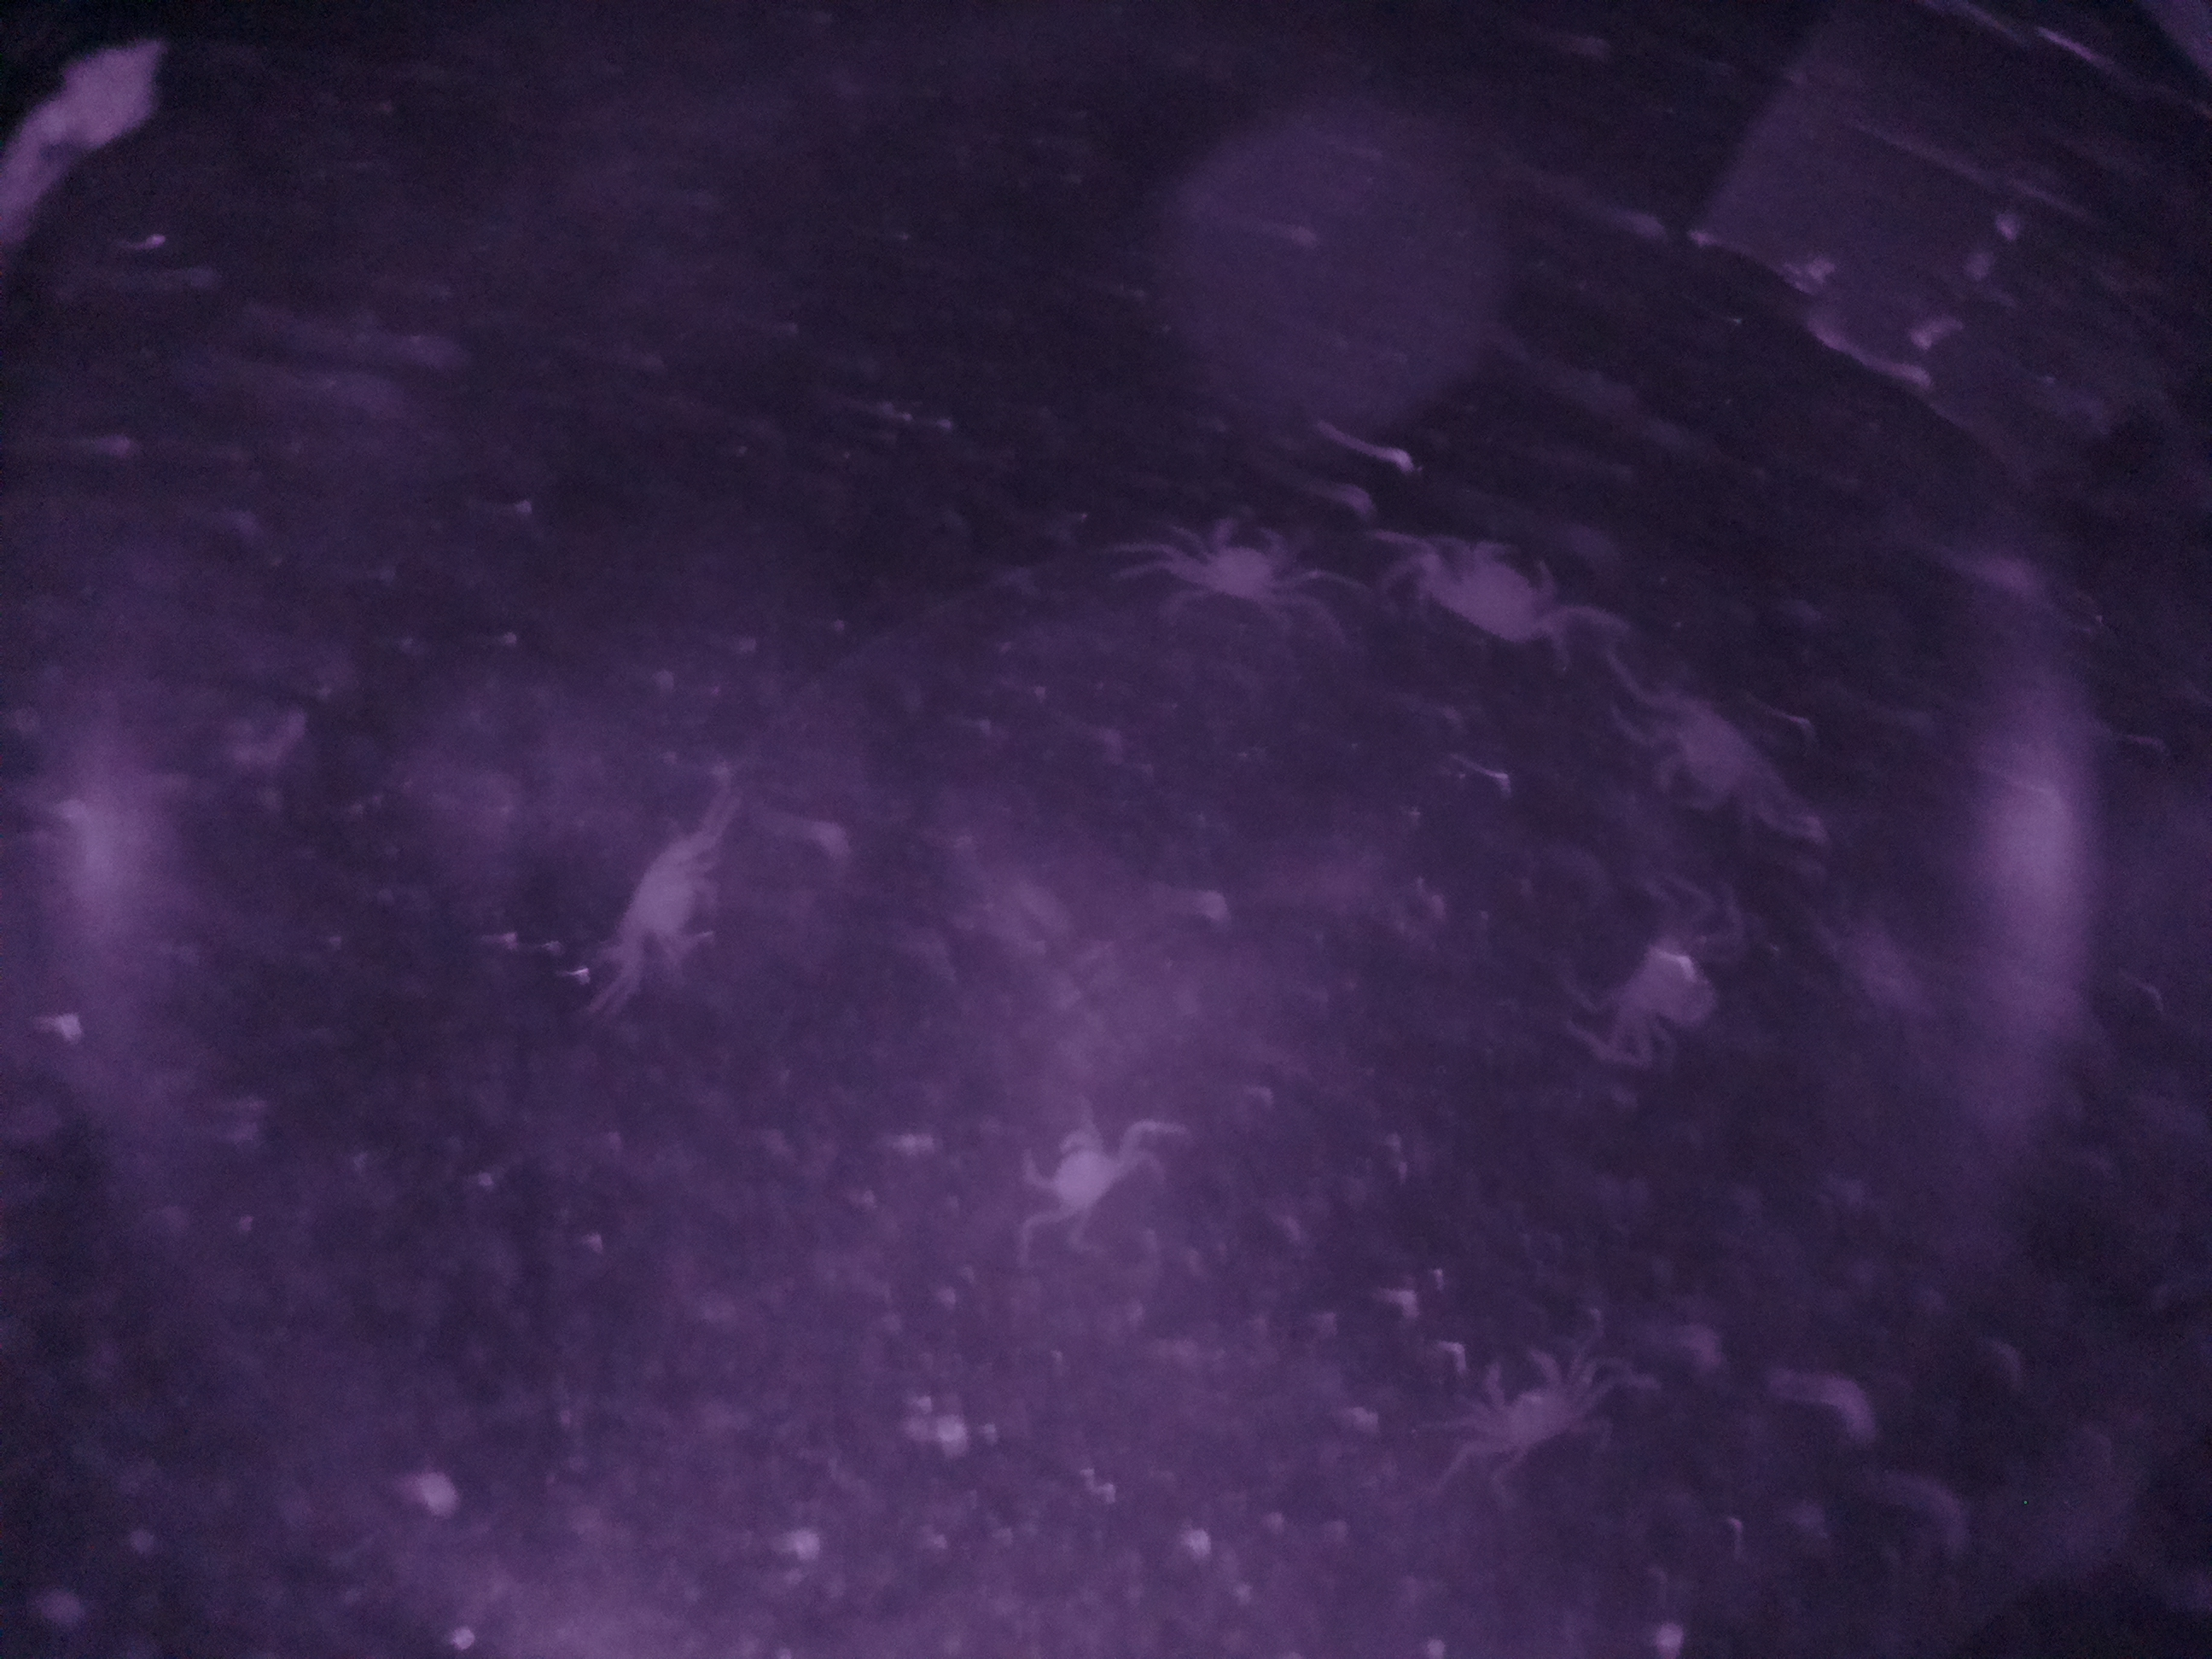Crab: (1378, 523, 1588, 664)
